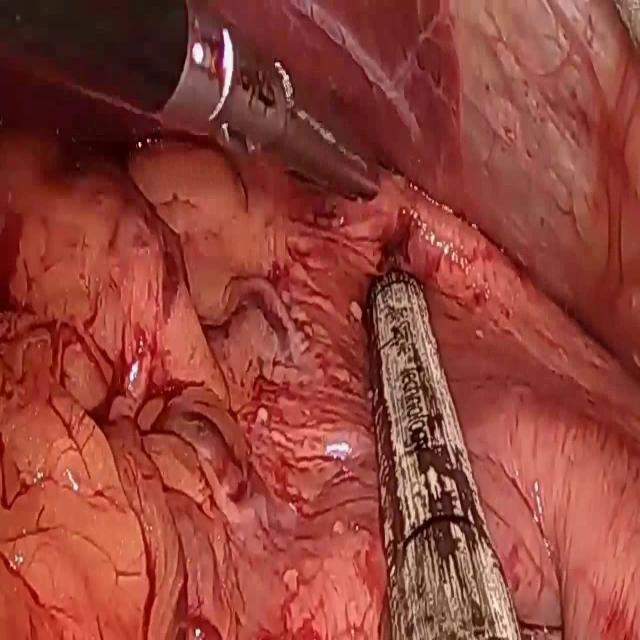surgical-area: (0, 0, 640, 639)
surgical-tool: (0, 0, 384, 197), (365, 267, 521, 639)
